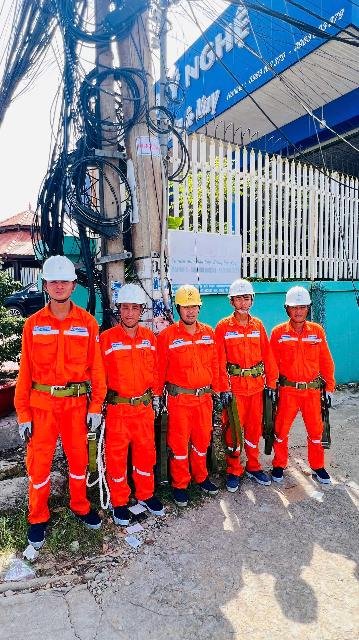gloves: (15, 417, 37, 444), (77, 411, 105, 432), (218, 385, 233, 411), (150, 391, 164, 418), (265, 385, 283, 404), (322, 386, 336, 407)
harness: (23, 377, 97, 400), (103, 384, 153, 410), (160, 374, 214, 398), (277, 371, 334, 393), (220, 356, 273, 379)
helmet: (36, 256, 80, 288), (115, 282, 151, 310), (282, 283, 316, 307), (174, 283, 204, 310), (221, 279, 256, 300)
shoes: (66, 494, 103, 533), (134, 485, 166, 519), (190, 471, 219, 501), (27, 512, 47, 550), (109, 496, 131, 530), (168, 479, 192, 510), (244, 466, 272, 489), (223, 465, 241, 497), (308, 464, 331, 486), (272, 459, 284, 483)
